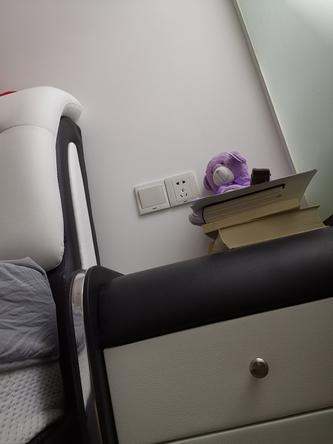switch: (137, 179, 166, 209)
